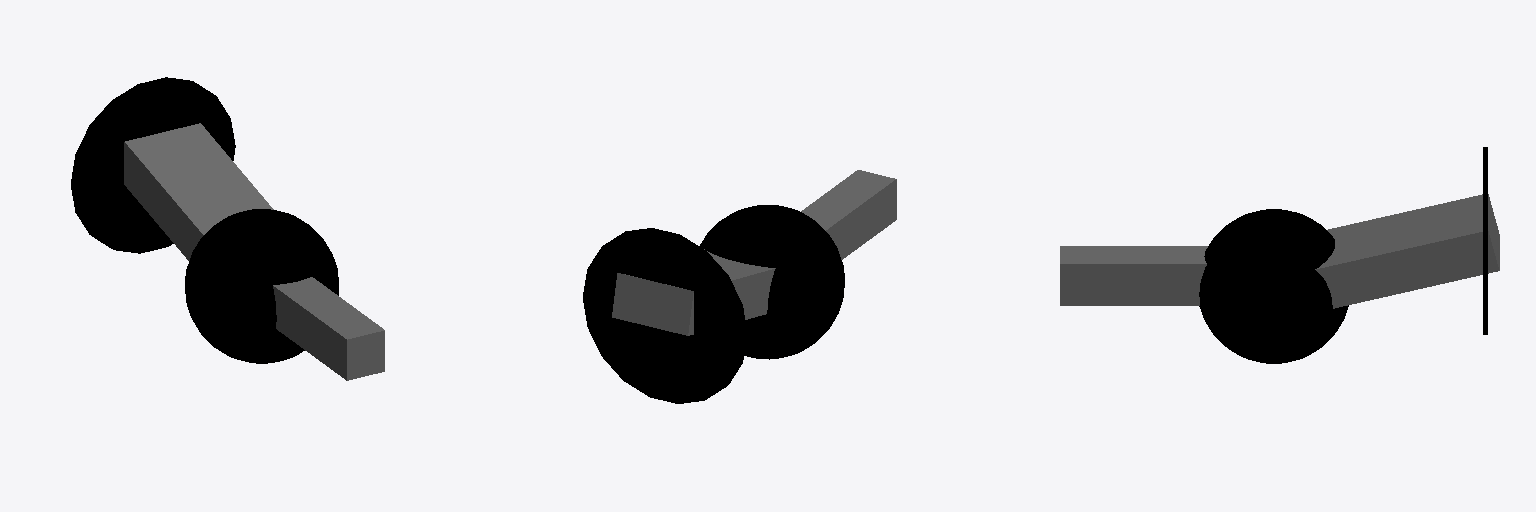
Rendered from Turret.obj.
The picture shows the model from 3 angles: view 1: azimuth 30°, elevation 25°; view 2: azimuth 150°, elevation 25°; view 3: azimuth 270°, elevation 25°; orthographic projection.
Visible parts, largest first — view 1: Sphere001, Cylinder001, Box001, Box002; view 2: Cylinder001, Sphere001, Box001, Box002; view 3: Sphere001, Box001, Box002, Cylinder001.
Boxes of the visible parts, <box> form: Sphere001: <box>185,209,338,363</box>; Cylinder001: <box>71,77,235,253</box>; Box001: <box>124,123,273,260</box>; Box002: <box>273,277,384,380</box>; Cylinder001: <box>583,228,747,403</box>; Sphere001: <box>699,205,844,359</box>; Box001: <box>612,249,775,335</box>; Box002: <box>801,170,896,259</box>; Sphere001: <box>1199,209,1348,363</box>; Box001: <box>1315,194,1499,308</box>; Box002: <box>1060,246,1207,305</box>; Cylinder001: <box>1483,147,1487,334</box>.
Size of the model in its own units: 39.98 by 46.51 by 93.25.